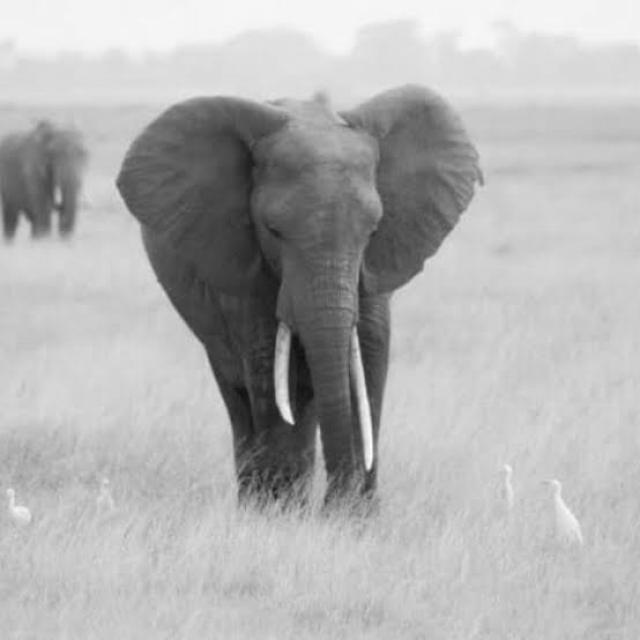Elephant: (114, 82, 484, 520), (0, 116, 90, 242)
